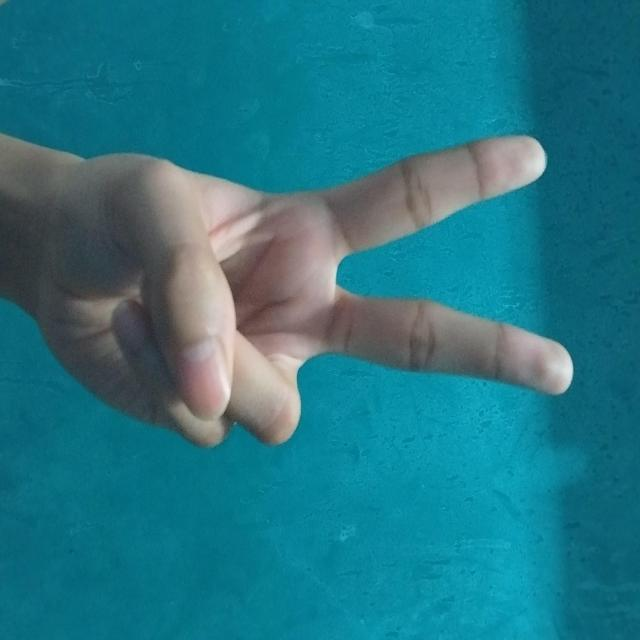V: (131, 65, 454, 610)
